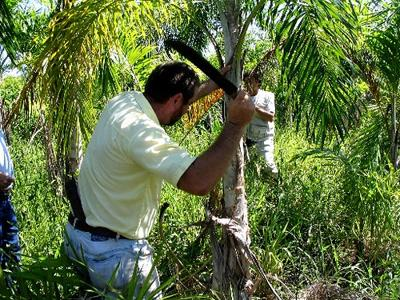person: (61, 58, 257, 300)
